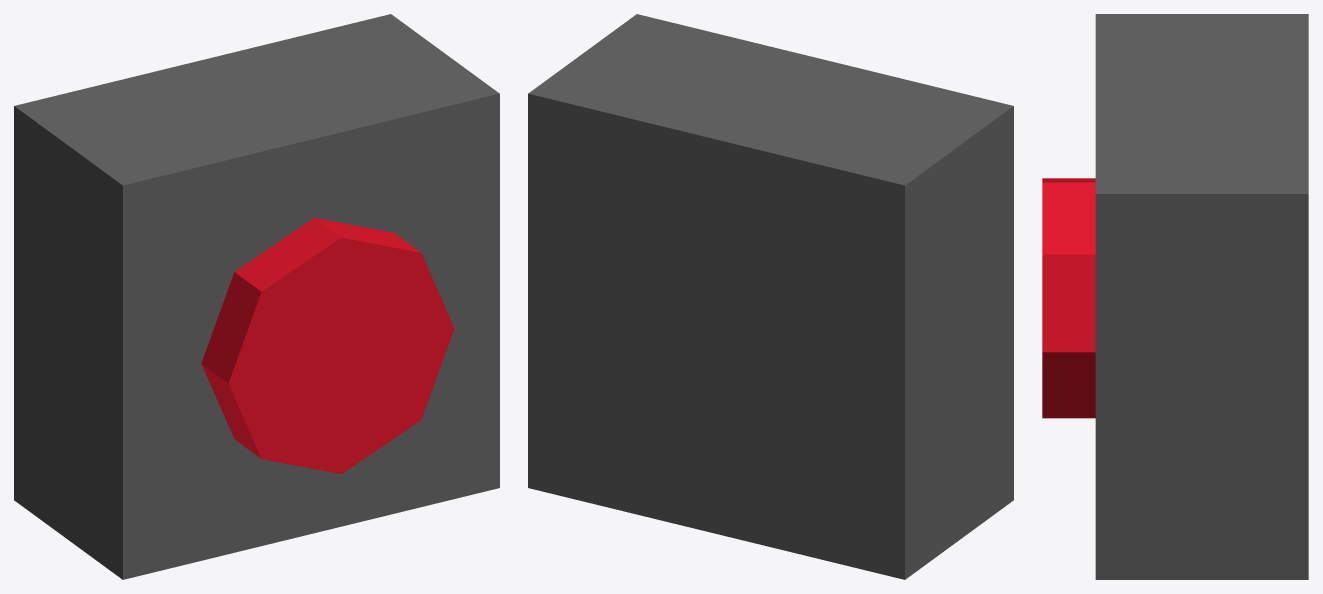
File: 63Apenta-plug.glb
3 renders of one model, left to right at view 1: azimuth 30°, elevation 25°; view 2: azimuth 150°, elevation 25°; view 3: azimuth 270°, elevation 25°, orthographic. The views are drawn at different scales.
Parts seen in each view (by area): view 1: 63Apenta-plug; view 2: 63Apenta-plug; view 3: 63Apenta-plug.
Part boxes in pixels (<box>): 63Apenta-plug: <box>14,14,499,579</box>; 63Apenta-plug: <box>528,14,1013,579</box>; 63Apenta-plug: <box>1042,14,1308,579</box>.
Bounding box in the file's own units: 0.2 × 0.2 × 0.125.
